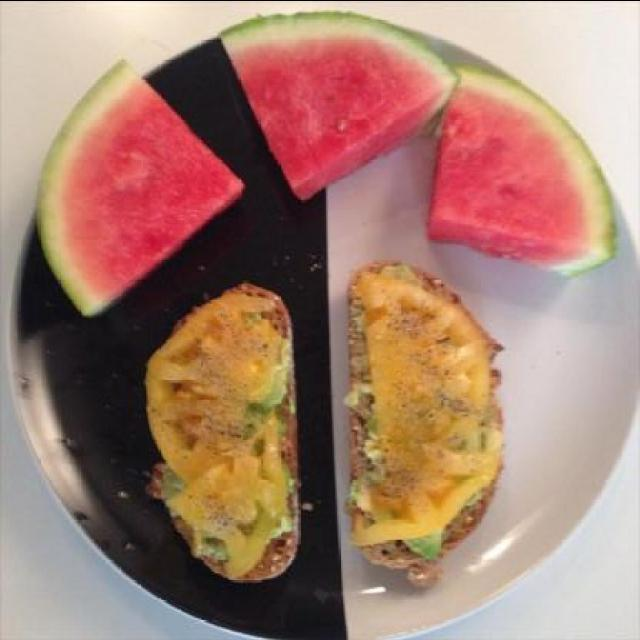Watermelon: (34, 54, 242, 316), (220, 12, 457, 196), (428, 64, 618, 281)
